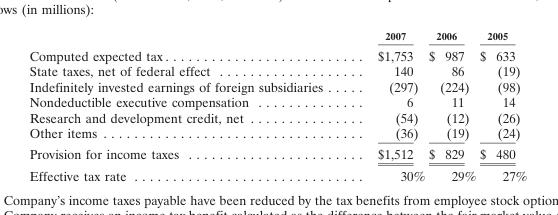table: (28, 29, 526, 183)
table column: (28, 29, 349, 183), (349, 29, 426, 183), (426, 29, 477, 183), (477, 29, 526, 183)
table column header: (28, 29, 526, 44)
table row: (28, 142, 526, 164), (28, 164, 526, 183), (28, 44, 526, 62), (28, 124, 526, 142), (28, 62, 526, 78), (28, 93, 526, 109), (28, 29, 526, 44), (28, 78, 526, 93), (28, 109, 526, 124)
